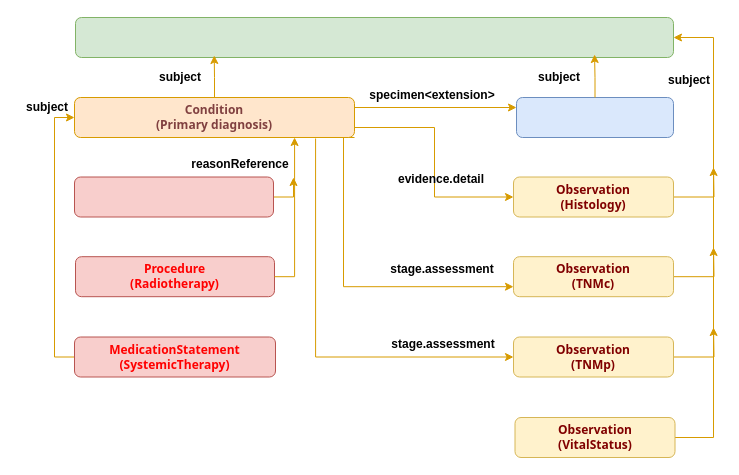
The diagram is 739 pixels wide and 475 high, and some of its shapes have lost their labels. Here are the shapes that lost their labels. From the top down, the centre of each, then its label:
At (374,37): "Patient / Pseudonym".
At (595,117): "Specimen (sample)".
At (174,196): "Procedure (Operation)".
